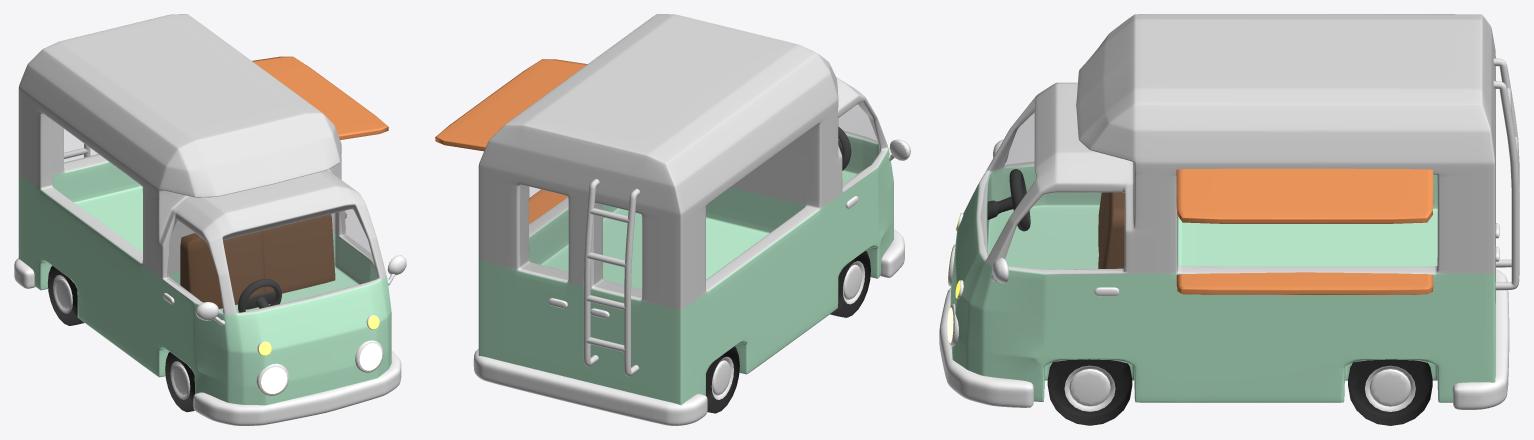
Rendered from carro2of.fbx.
The picture shows the model from 3 angles, left to right: view 1: azimuth 30°, elevation 25°; view 2: azimuth 150°, elevation 25°; view 3: azimuth 270°, elevation 25°; orthographic projection. The views are drawn at different scales.
Parts seen in each view (by area): view 1: Object_5, Object_4, Object_14, Object_22, Object_18, Object_16, Object_7, Object_8, Object_10, Object_24, Object_20, Object_12; view 2: Object_5, Object_4, Object_14, Object_18, Object_16, Object_28, Object_7, Object_8; view 3: Object_5, Object_4, Object_16, Object_14, Object_18, Object_7, Object_8, Object_28, Object_22, Object_24, Object_12.
Boxes of the visible parts, x1,y1,x2,y2 form: Object_5: (18,14,386,314); Object_4: (18,161,391,405); Object_14: (64,129,377,312); Object_22: (180,214,335,308); Object_18: (14,258,401,425); Object_16: (252,56,388,218); Object_7: (47,265,194,412); Object_8: (53,275,190,399); Object_10: (261,343,382,393); Object_24: (238,279,281,312); Object_20: (195,255,406,325); Object_12: (256,314,383,395); Object_5: (478,14,888,309); Object_4: (478,135,893,405); Object_14: (520,103,879,297); Object_18: (473,229,904,425); Object_16: (435,59,587,224); Object_28: (583,179,639,376); Object_7: (706,251,870,413); Object_8: (711,261,864,399); Object_5: (977,14,1495,274); Object_4: (950,165,1495,402); Object_16: (1176,168,1433,294); Object_14: (981,108,1123,269); Object_18: (939,269,1509,409); Object_7: (1047,359,1432,425); Object_8: (1064,365,1415,411); Object_28: (1493,58,1519,290); Object_22: (1098,192,1124,268); Object_24: (987,169,1030,231); Object_12: (948,213,963,346).
Bounding box in the file's own units: 2.8 × 2.53 × 4.18.
